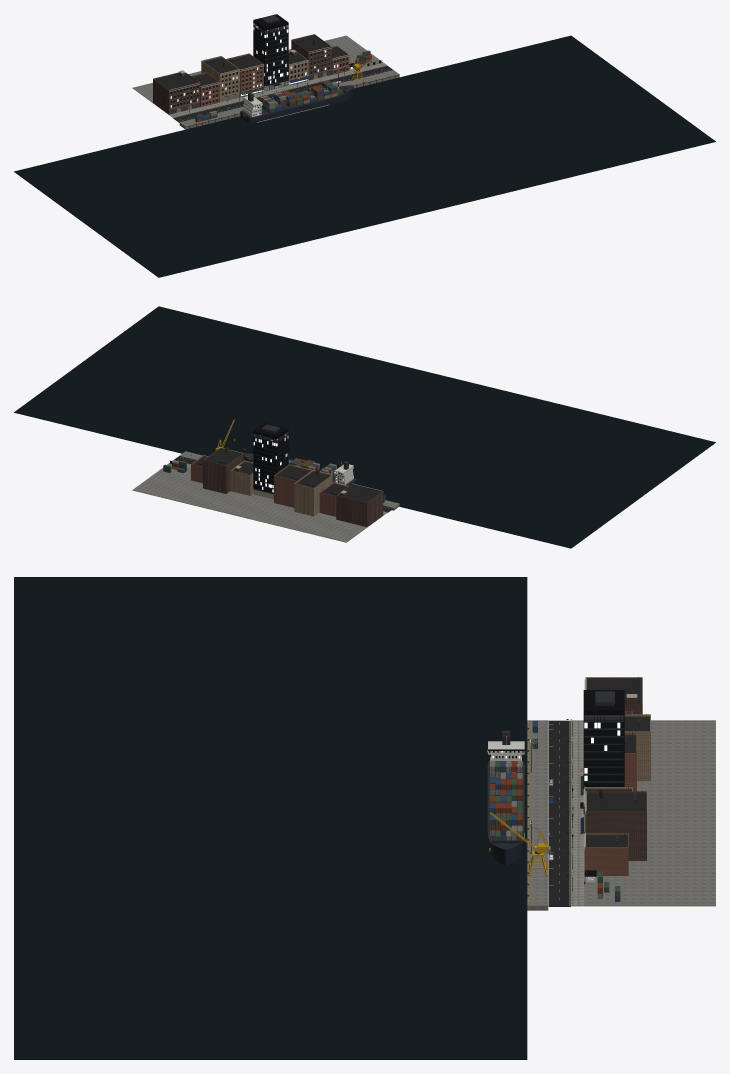
File: harbor_block.glb
3 renders of one model, top to bottom at view 1: azimuth 30°, elevation 25°; view 2: azimuth 150°, elevation 25°; view 3: azimuth 270°, elevation 25°, orthographic. The views are drawn at different scales.
Parts seen in each view (by area): view 1: Water, Ship_MV_MERIDIAN, Harbor_Tower, Sidewalk, Warehouse_West_End, Warehouse_Cooperage, Warehouse_Bonded, Coffee_Building, Road, Quay, Warehouse_Ropewalk, Chandlery_Building (+1 smaller); view 2: Water, Sidewalk, Harbor_Tower, Warehouse_West_End, Warehouse_Cooperage, Warehouse_Bonded, Coffee_Building, Ship_MV_MERIDIAN, Chandlery_Building, Warehouse_Ropewalk; view 3: Water, Sidewalk, Ship_MV_MERIDIAN, Harbor_Tower, Road, Quay, Warehouse_Cooperage, Warehouse_Sailloft, Warehouse_West_End, Warehouse_Bonded, Coffee_Building.
Boxes of the visible parts, x1,y1,x2,y2 form: Water: (14,35,715,277); Ship_MV_MERIDIAN: (240,80,353,124); Harbor_Tower: (253,14,288,91); Sidewalk: (132,35,386,117); Warehouse_West_End: (153,70,200,114); Warehouse_Cooperage: (291,34,331,80); Warehouse_Bonded: (201,56,239,102); Coffee_Building: (226,53,264,97); Road: (173,65,392,122); Quay: (179,70,399,129); Warehouse_Ropewalk: (191,72,219,106); Chandlery_Building: (288,49,308,85); Water: (14,306,715,548); Sidewalk: (132,460,387,542); Harbor_Tower: (253,422,288,499); Warehouse_West_End: (336,483,383,526); Warehouse_Cooperage: (203,447,243,493); Warehouse_Bonded: (294,469,332,516); Coffee_Building: (274,464,311,507); Ship_MV_MERIDIAN: (243,453,356,485); Chandlery_Building: (230,460,253,495); Warehouse_Ropewalk: (319,482,348,516); Water: (14,577,527,1059); Sidewalk: (571,720,715,906); Ship_MV_MERIDIAN: (487,730,524,865); Harbor_Tower: (583,690,624,813); Road: (549,720,570,906); Quay: (526,720,548,910); Warehouse_Cooperage: (585,789,646,860); Warehouse_Sailloft: (584,832,628,875); Warehouse_West_End: (584,677,642,714); Warehouse_Bonded: (624,714,650,781); Coffee_Building: (580,732,636,795).
Size of the model in its own units: 520 by 67.4 by 320.
Materials: 66 (22 with a texture image).
